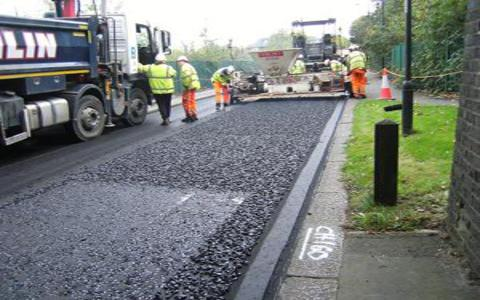Proper road: (161, 128, 295, 208)
